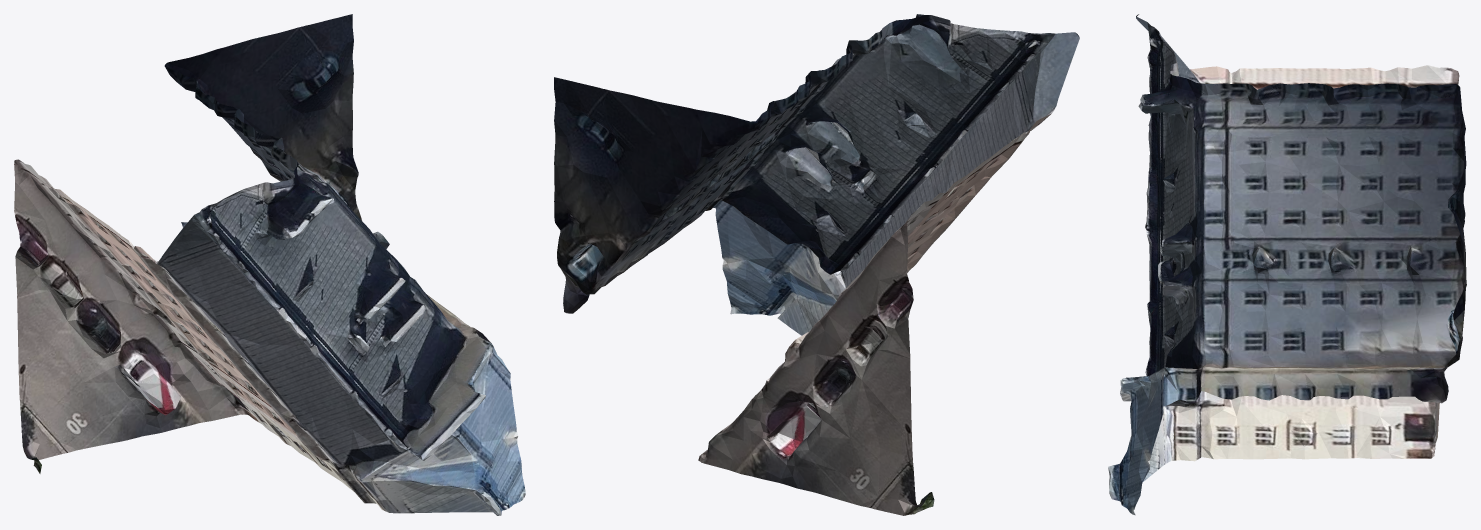
The model's file is Tile_+031_+022_L20_0000330.obj.
3 views of the same model, side by side, from view 1: azimuth 30°, elevation 25°; view 2: azimuth 150°, elevation 25°; view 3: azimuth 270°, elevation 25° (orthographic). The views are drawn at different scales.
Bounding box in the file's own units: 31.5 × 31.5 × 29.92.
Materials: 1 (1 with a texture image).
